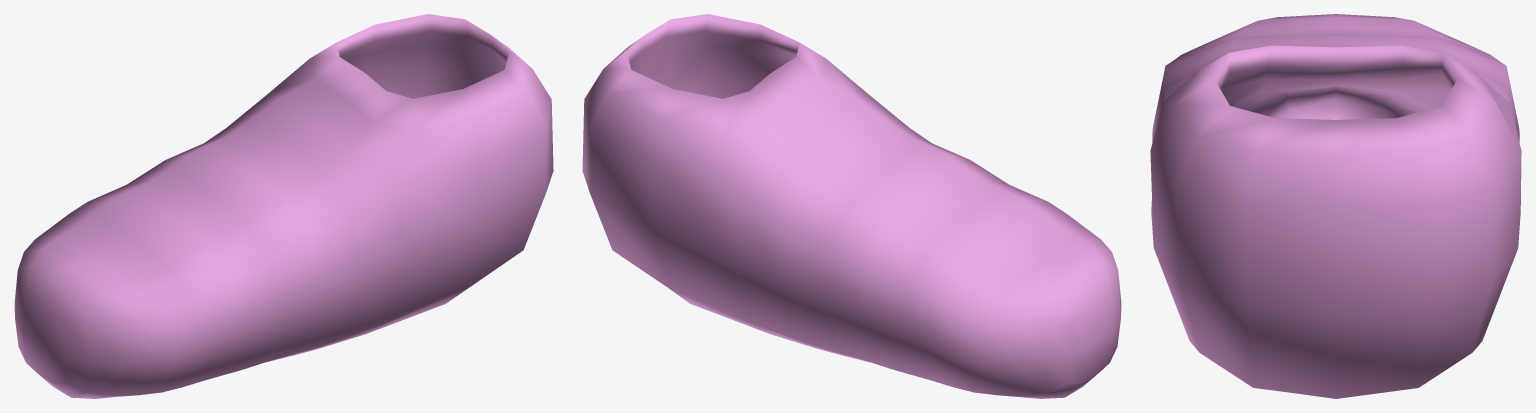
The model's file is Shoe.fbx.
The picture shows the model from 3 angles, left to right: view 1: azimuth 30°, elevation 25°; view 2: azimuth 150°, elevation 25°; view 3: azimuth 270°, elevation 25°; orthographic projection. The views are drawn at different scales.
Visible parts, largest first — view 1: Cube.001; view 2: Cube.001; view 3: Cube.001.
Boxes of the visible parts, left/top/right/bottom form: Cube.001: left=14, top=14, right=553, bottom=398; Cube.001: left=582, top=14, right=1121, bottom=398; Cube.001: left=1150, top=14, right=1521, bottom=398.
Size of the model in its own units: 75.25 by 36.29 by 35.53.
